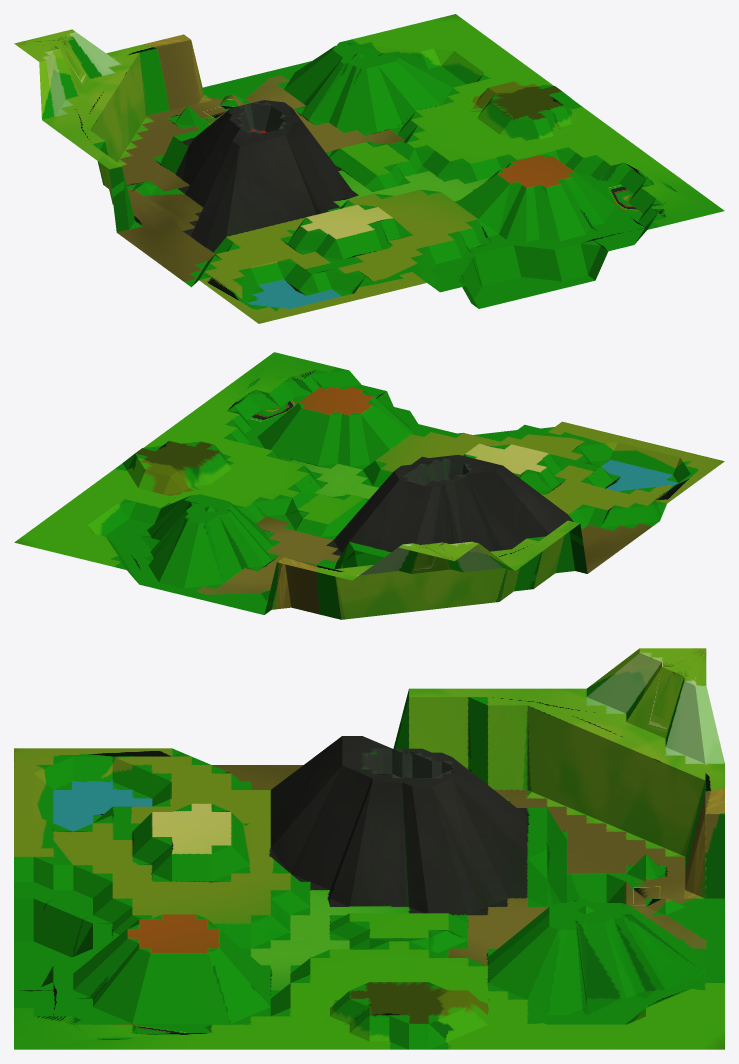
The model's file is terrain.dae.
3 views of the same model, one above another, from view 1: azimuth 30°, elevation 25°; view 2: azimuth 150°, elevation 25°; view 3: azimuth 270°, elevation 25° (orthographic). The views are drawn at different scales.
Parts seen in each view (by area): view 1: Grid; view 2: Grid; view 3: Grid.
Boxes of the visible parts, x1=… form: Grid: x1=14, y1=14, x2=724, y2=323; Grid: x1=14, y1=352, x2=724, y2=619; Grid: x1=14, y1=648, x2=724, y2=1049.
Bounding box in the file's own units: 20 × 20 × 5.05.
Materials: 1 (1 with a texture image).
